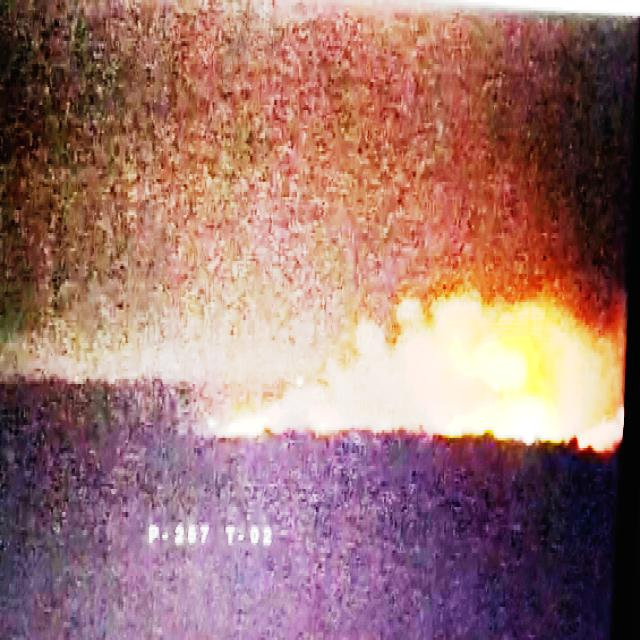asap: (199, 254, 621, 462)
